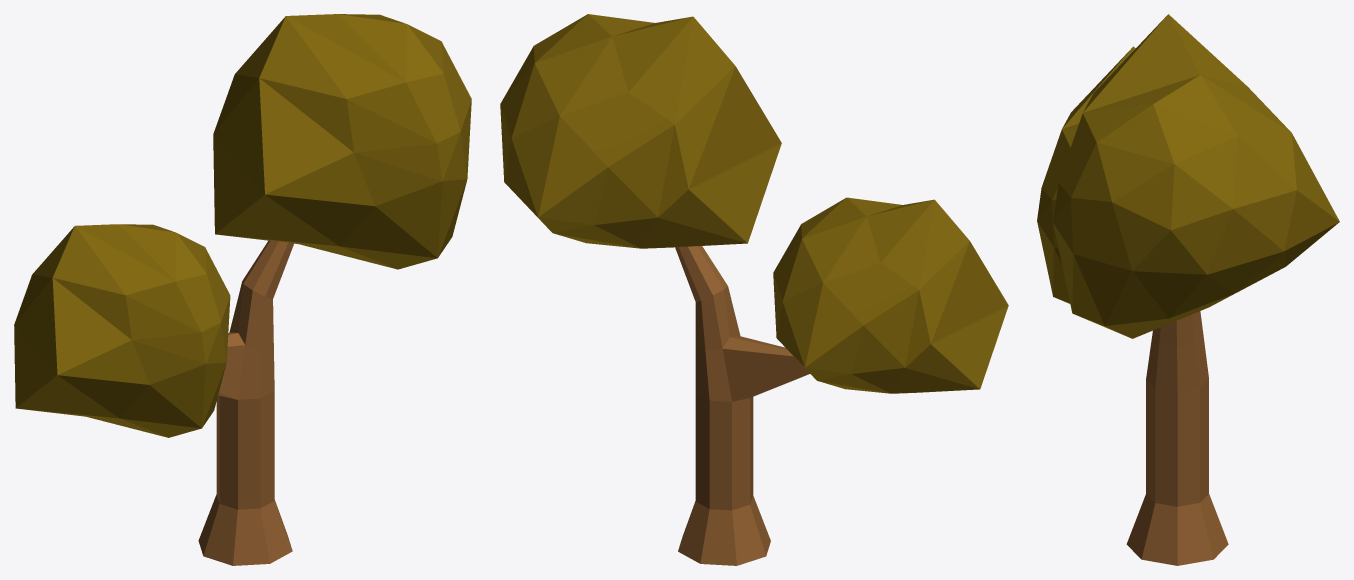
Rendered from SmallTree1.fbx.
3 views of the same model, side by side, from view 1: azimuth 30°, elevation 25°; view 2: azimuth 150°, elevation 25°; view 3: azimuth 270°, elevation 25° (orthographic). The views are drawn at different scales.
Visible parts, largest first — view 1: Cylinder.001; view 2: Cylinder.001; view 3: Cylinder.001.
Part boxes in pixels (x1,y1,x2,y2): Cylinder.001: [14, 14, 471, 565]; Cylinder.001: [500, 14, 1008, 565]; Cylinder.001: [1037, 14, 1339, 565].
Bounding box in the file's own units: 456 × 499 × 250.
